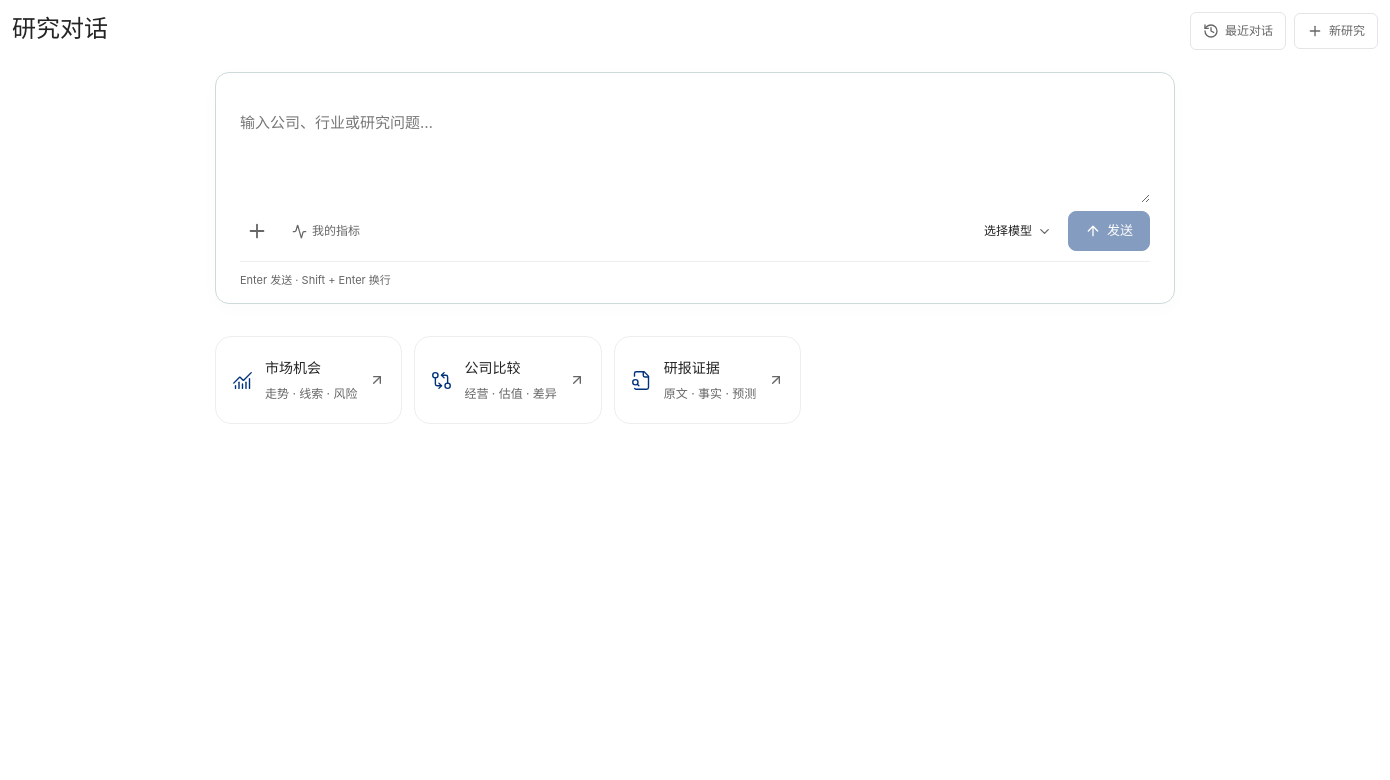
Scenario: ConversationWorkspace › accepts an asynchronous research job, preserves the user request and can stop it after acknowledgement
Type "独立研究公司的订单与盈利质量" into the text box labelled "输入公司、行业或研究问题…" at {"x": 695, "y": 148}, box [240,93,1150,203]
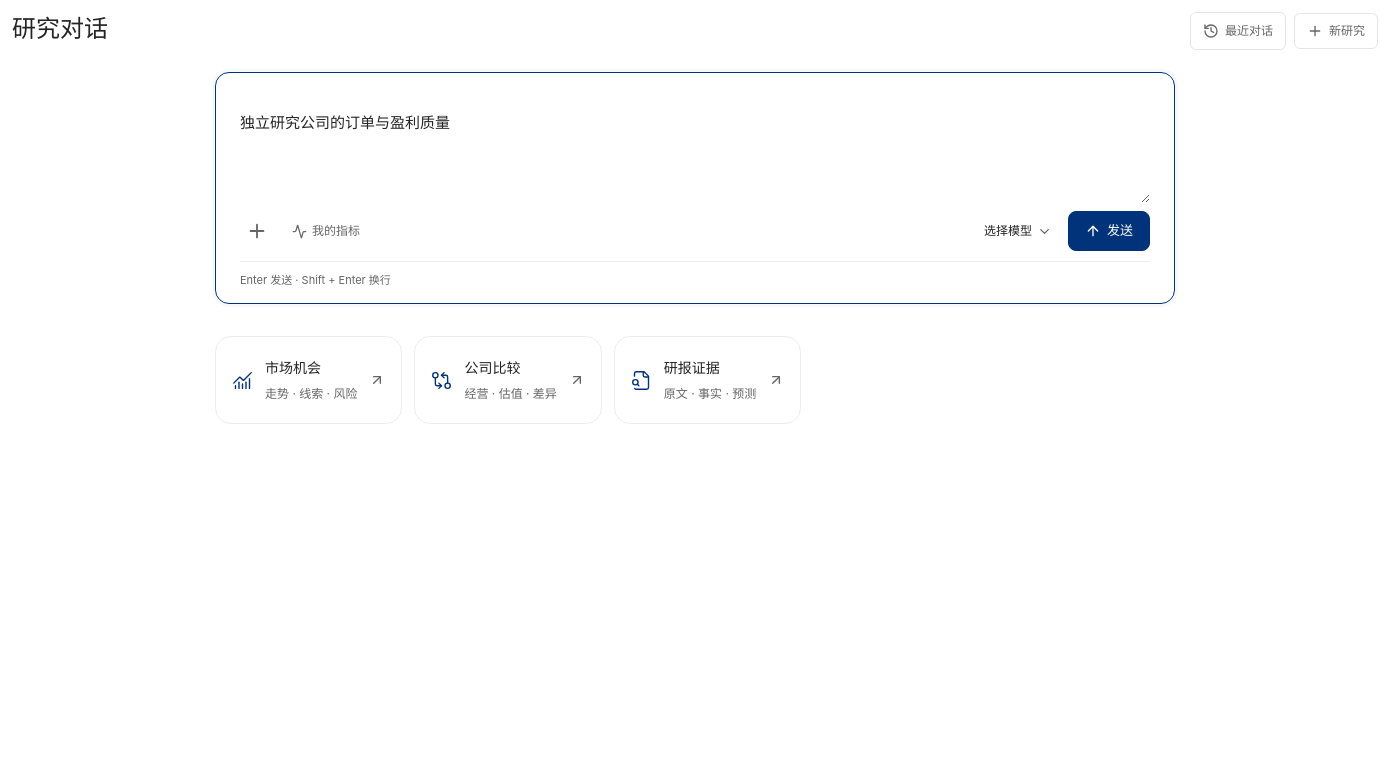
Click the button "发送" at {"x": 1109, "y": 231}, box [1068,211,1150,251]
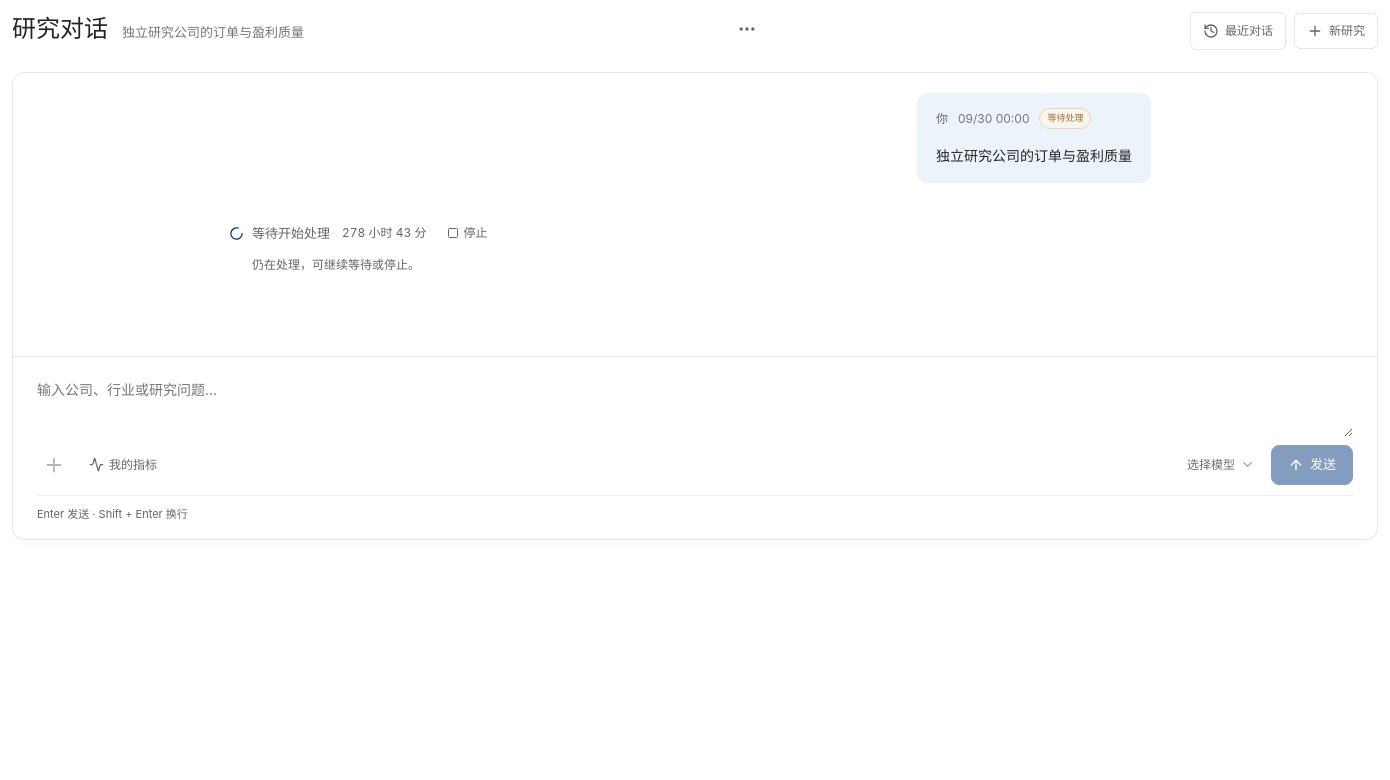
Expected: the button with aria-label "停止当前研究" is enabled, [439,215,496,251]
Expected: the text "独立研究公司的订单与盈利质量" next to "研究对话" is shown, [122,24,304,40]
Expected: the button "发送" is disabled, [1271,445,1353,485]
Type "下一条问题，先保留草稿" into the text box labelled "输入公司、行业或研究问题…" at {"x": 695, "y": 405}, box [37,373,1353,437]
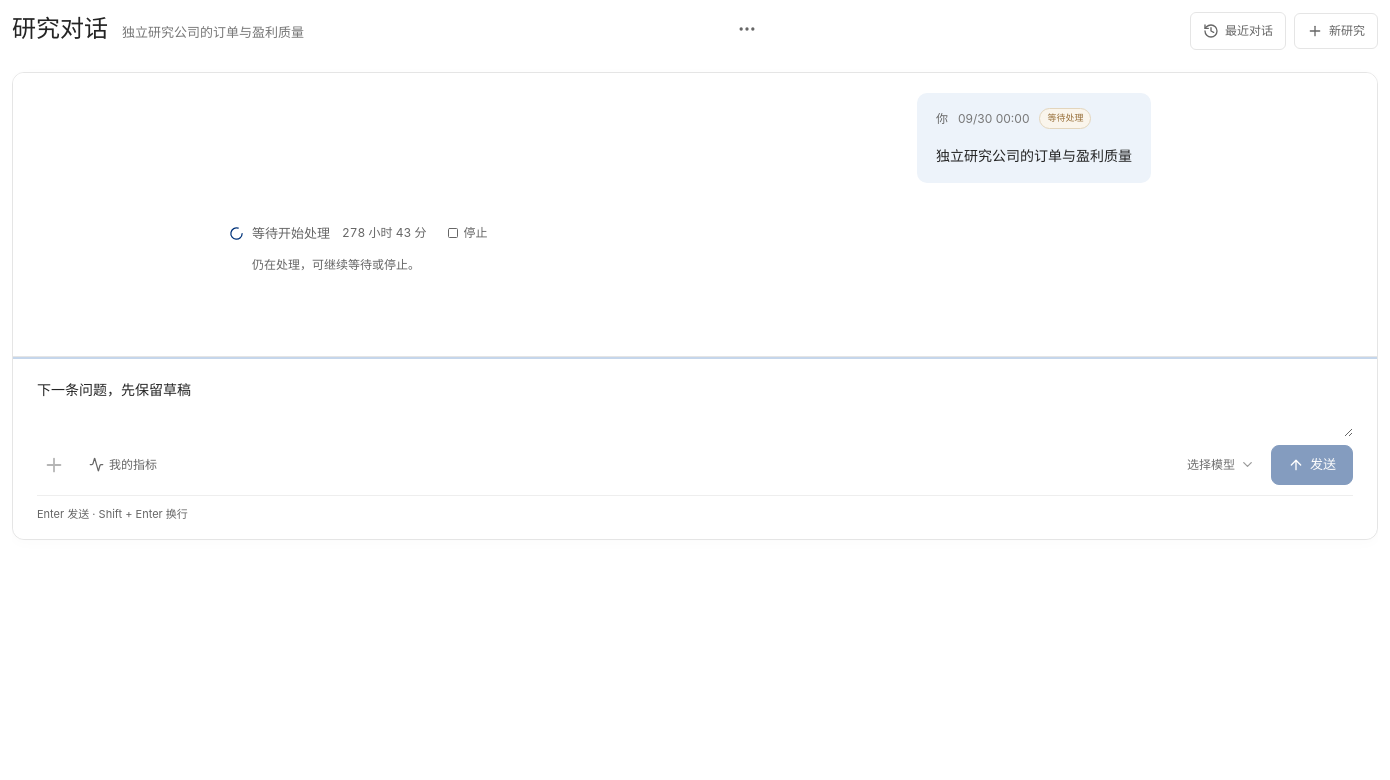
Click the button with aria-label "停止当前研究" at {"x": 467, "y": 233}, box [439,215,496,251]
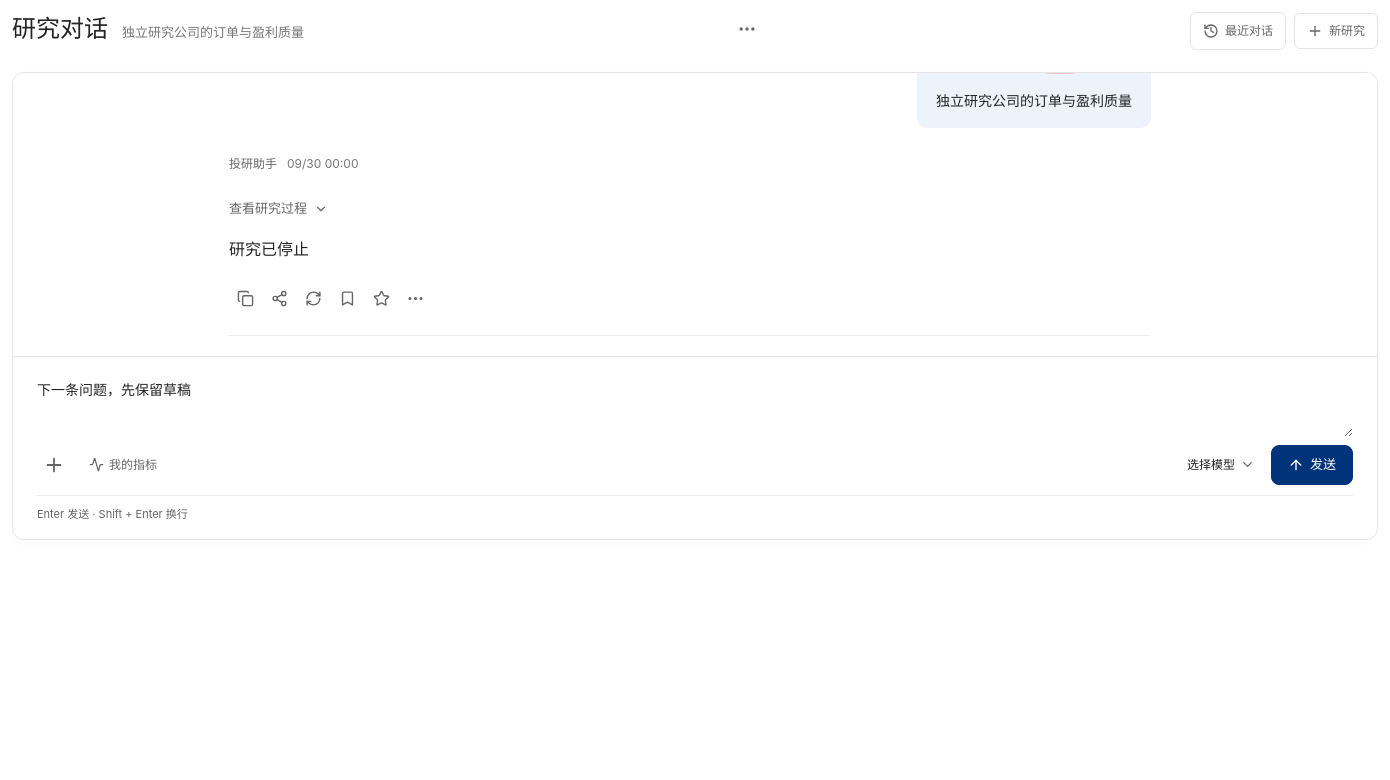
Expected: the text box named "研究要求" is enabled, [37,373,1353,437]
Expected: the text "研究已停止" is shown, [229,239,309,259]
